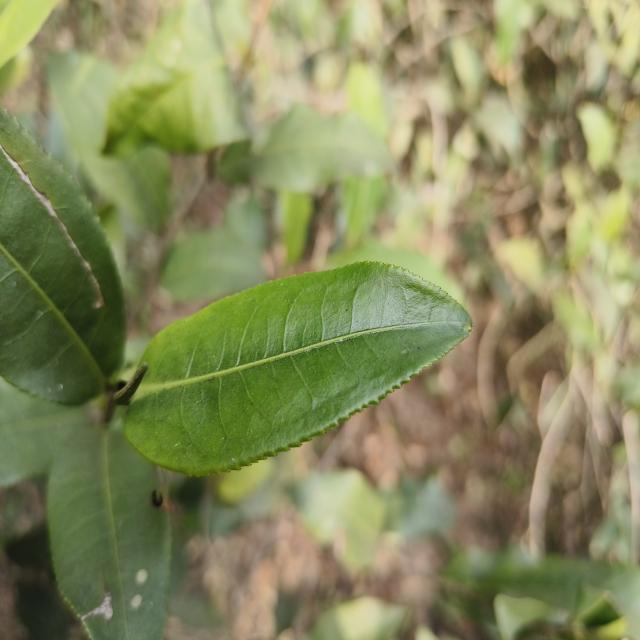Leaf: (125, 262, 471, 475), (0, 106, 126, 404), (47, 426, 171, 640), (47, 51, 171, 229), (105, 0, 247, 154), (252, 104, 393, 192), (0, 378, 87, 487), (294, 468, 386, 570), (160, 228, 266, 302), (383, 476, 455, 539), (309, 597, 406, 640), (340, 176, 386, 248), (346, 62, 387, 141), (278, 191, 312, 264)
